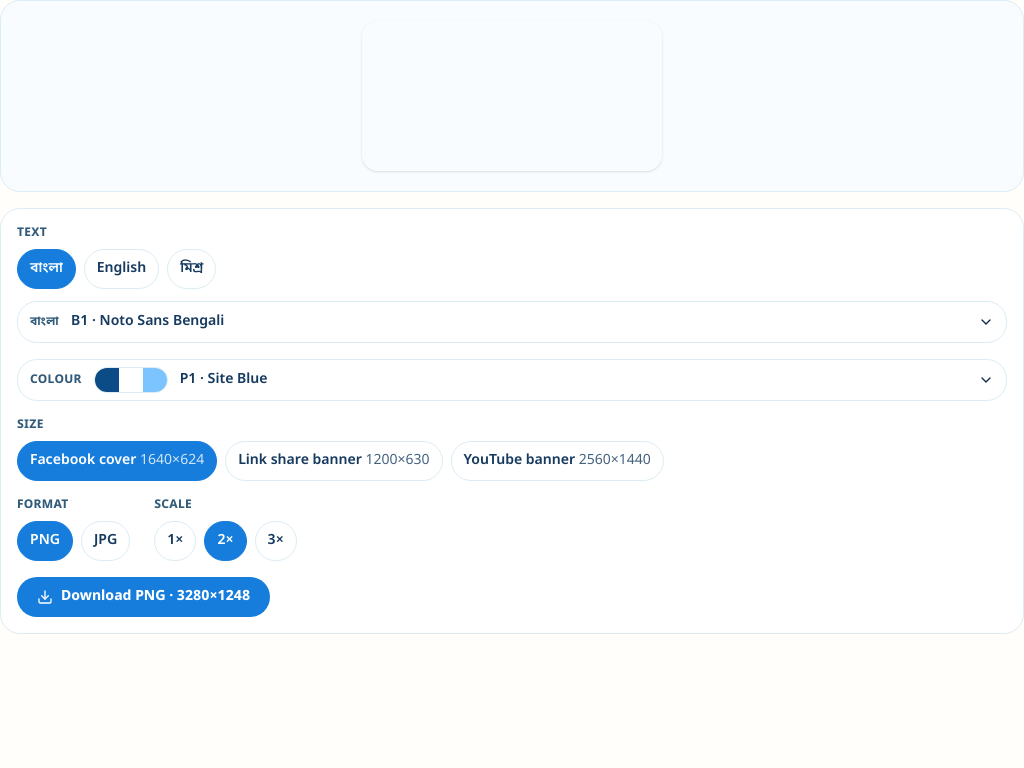
the Image Section studio › will not offer a sharpness too large for a phone to make, and falls back to the largest allowed
Click the button "3×".
click(276, 541)  # box 255,521 -> 297,561
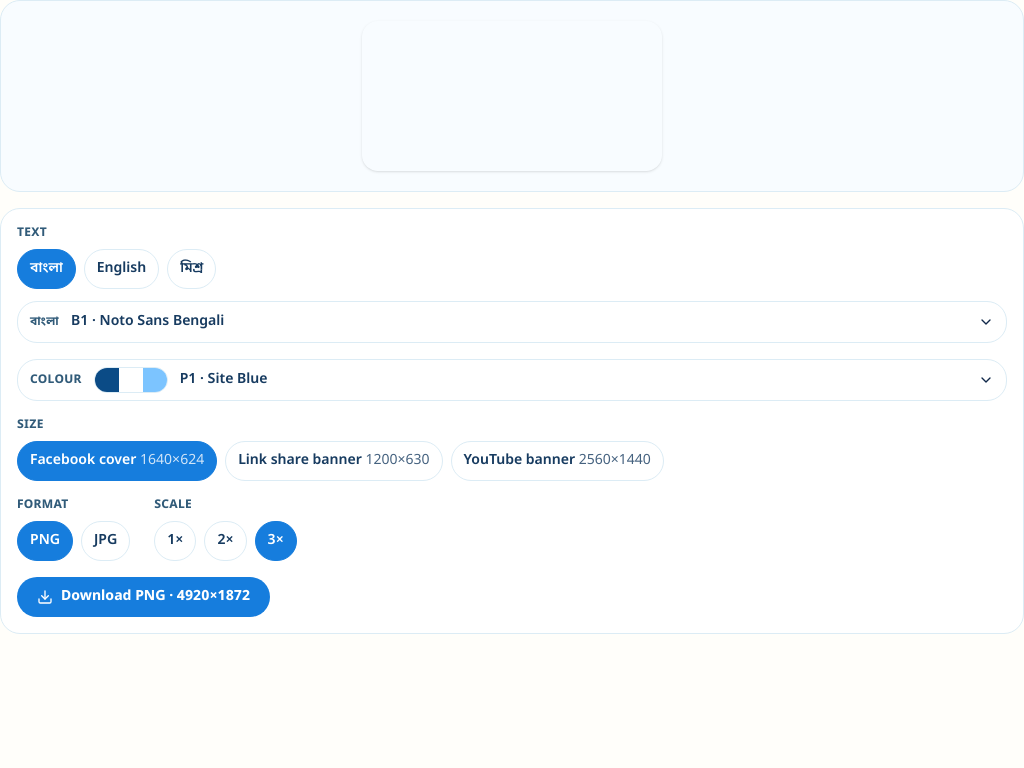
Click the button "YouTube banner 2560×1440".
click(557, 461)  # box 450,441 -> 664,481
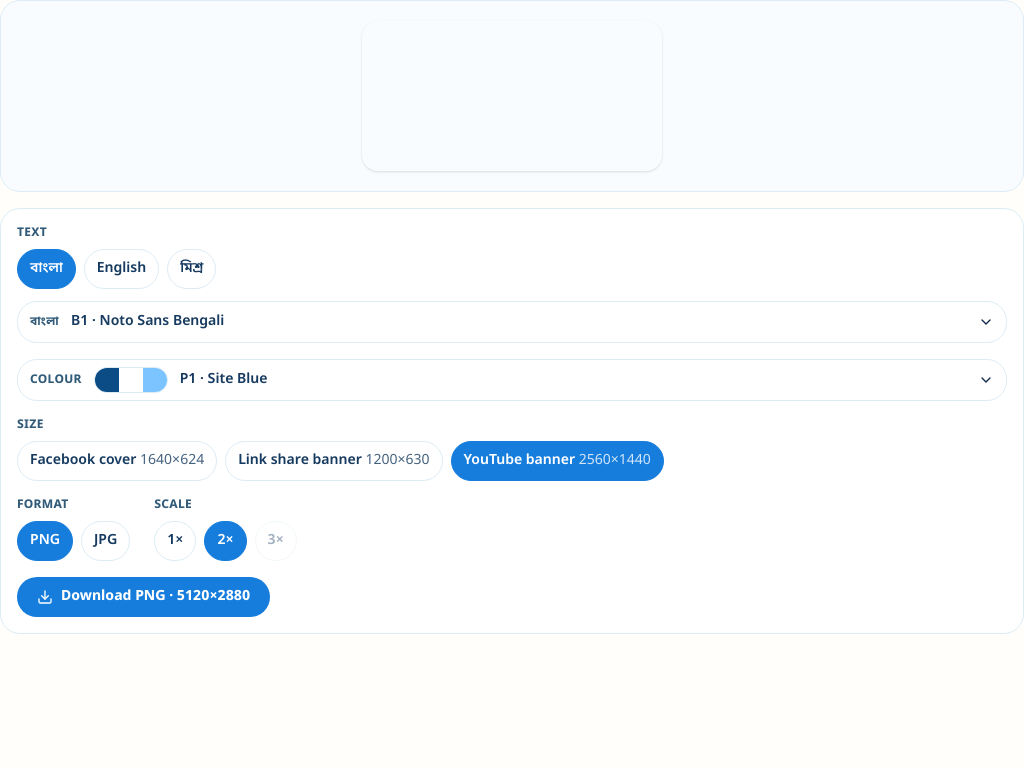
Now the button "3×" is disabled, box 255,521 -> 297,561
Now the button "Download PNG · 5120×2880" is shown, box 17,577 -> 270,617
